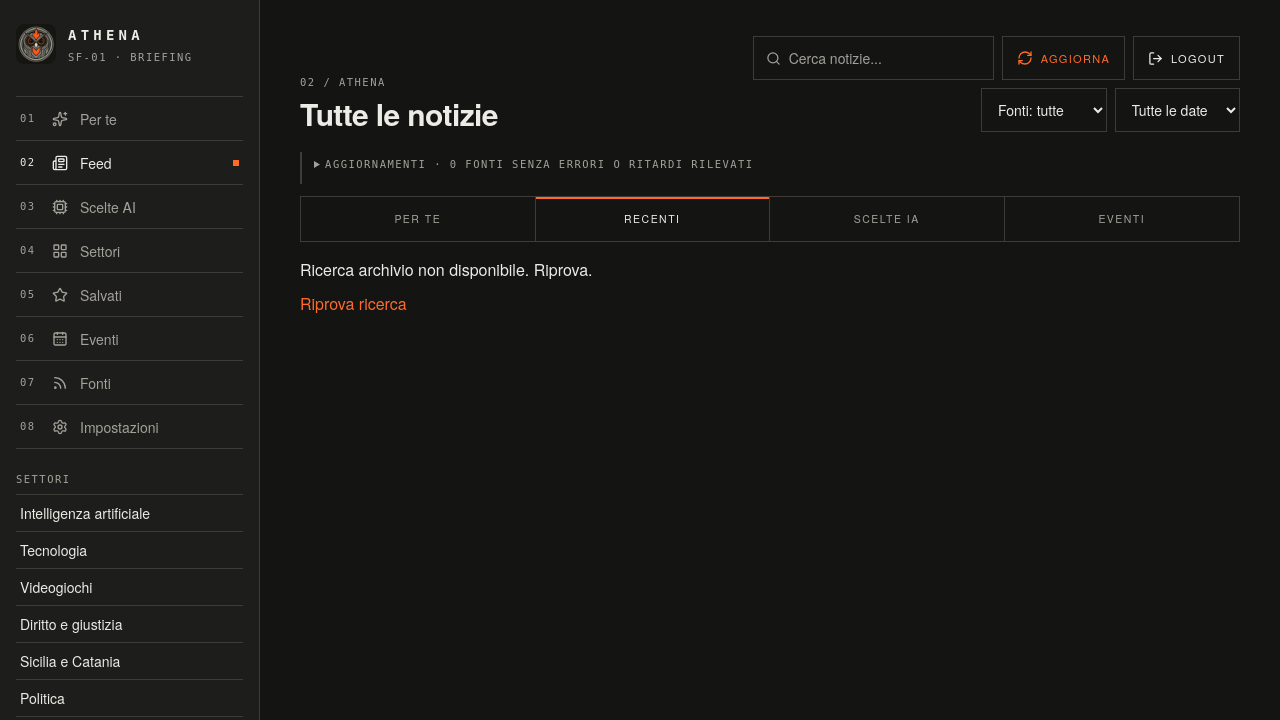
it: archive failures are visible and can be retried without changing the query
Expected: the message "Ricerca archivio non disponibile. Riprova." is shown, [300, 258, 592, 281]
Click the button "Riprova ricerca" at x=353, y=304, box [300, 282, 407, 326]
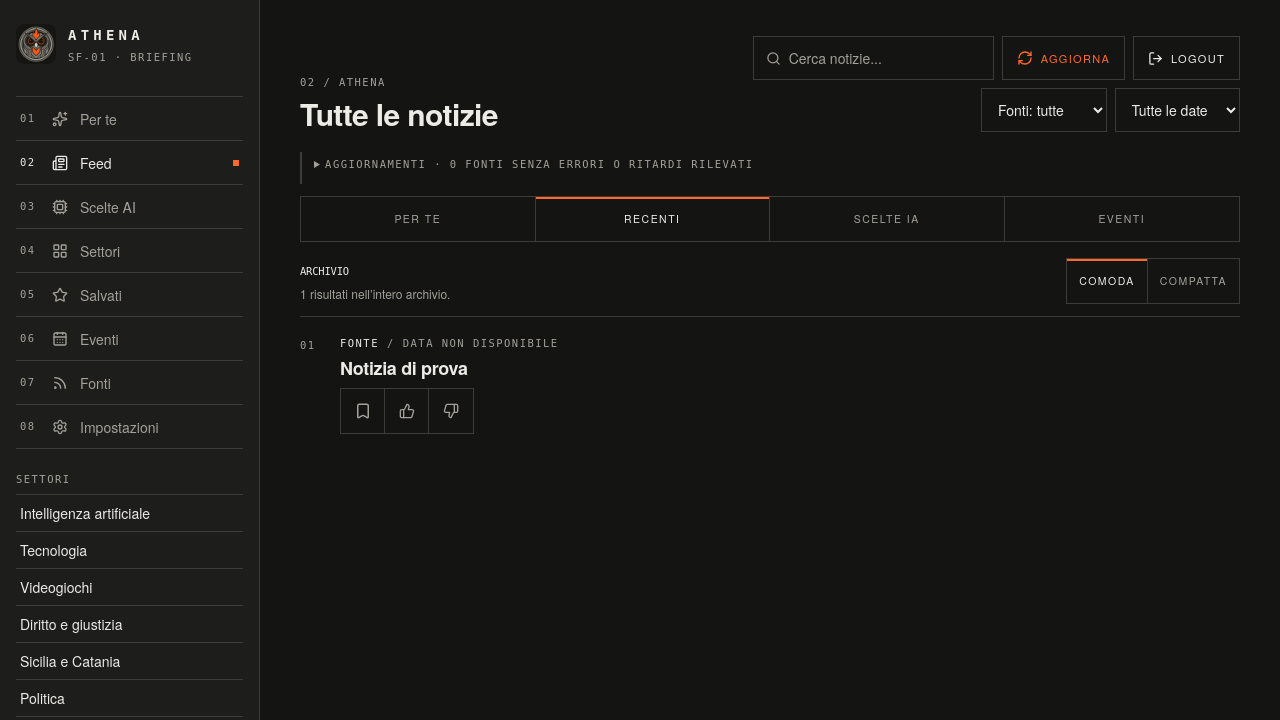
Result: the heading "Notizia di prova" is shown at [340, 355, 468, 381]
